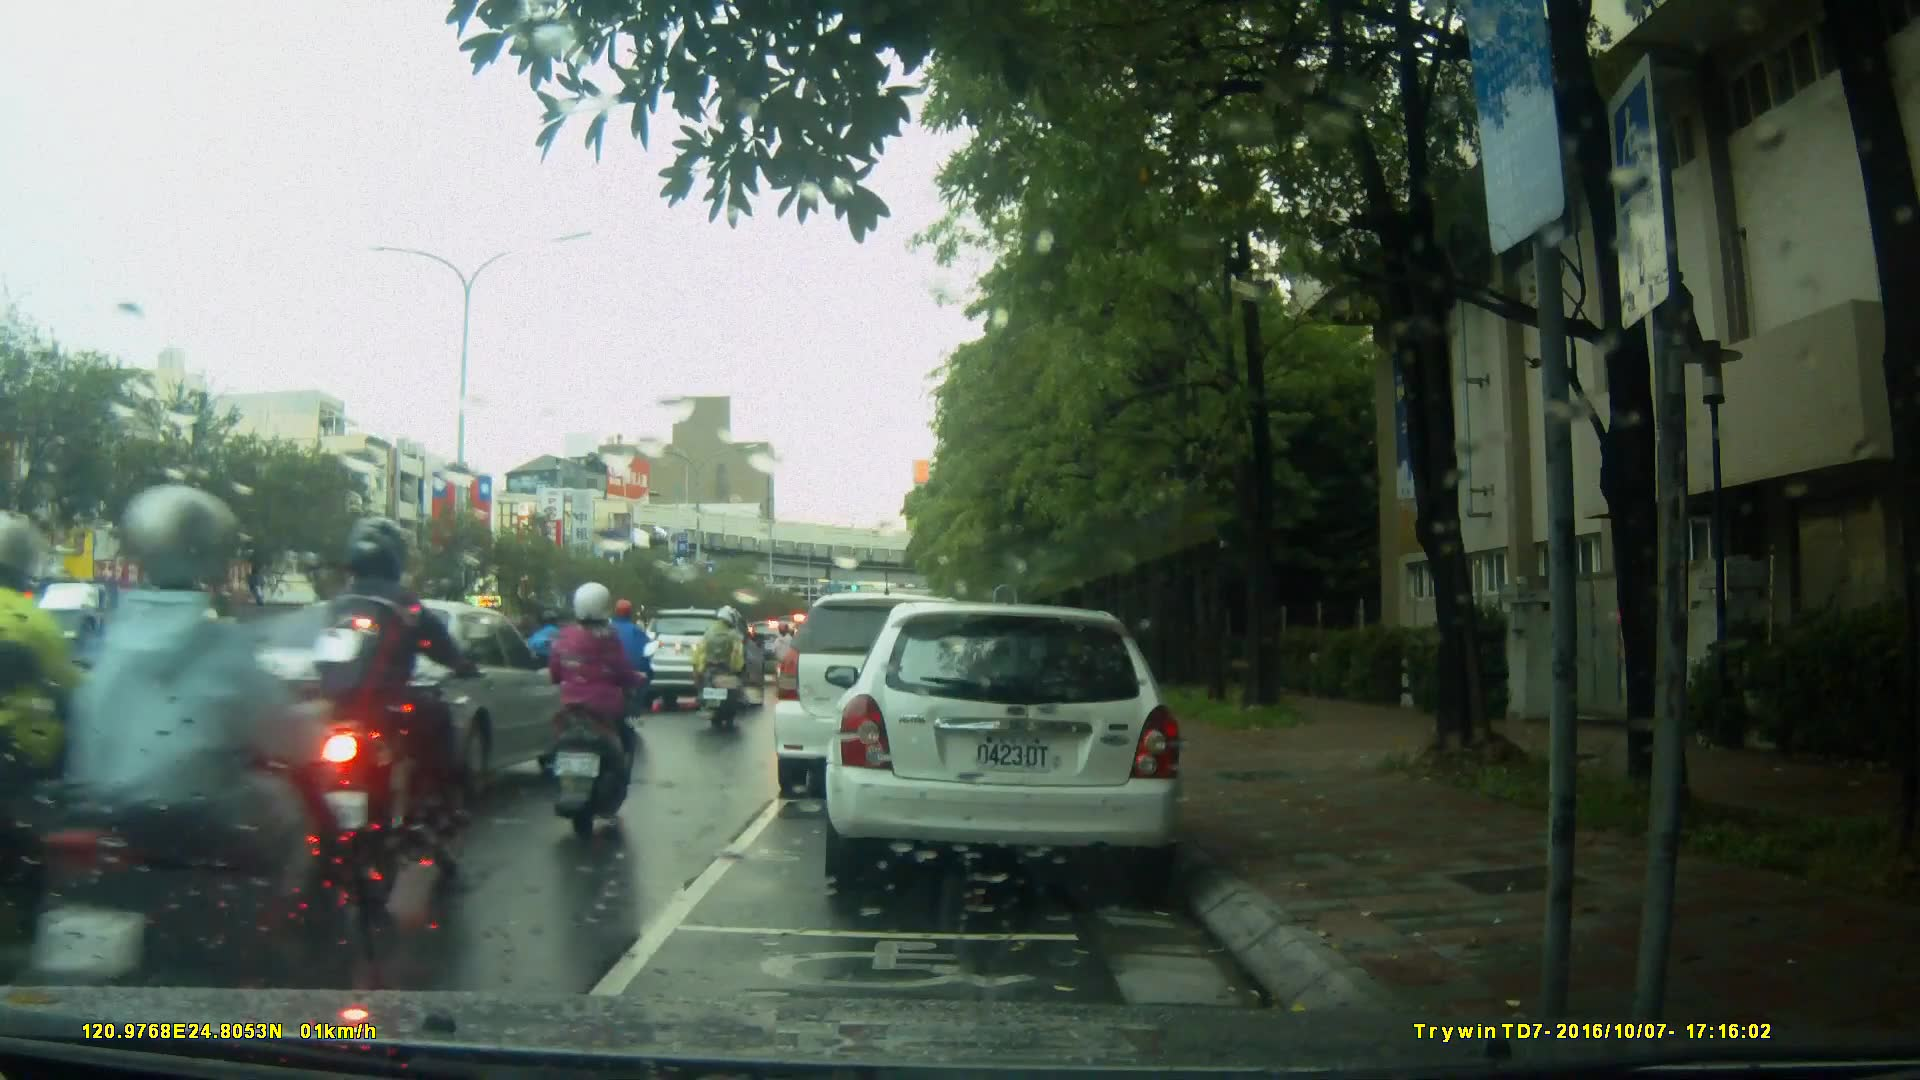rider: (40, 482, 331, 1030), (1, 510, 166, 989), (297, 515, 474, 909), (539, 586, 641, 838), (598, 599, 658, 720), (696, 606, 748, 734), (534, 605, 580, 712), (771, 623, 805, 697)
vehicle: (822, 604, 1188, 883), (220, 595, 585, 811), (774, 595, 995, 802), (633, 610, 768, 708)
